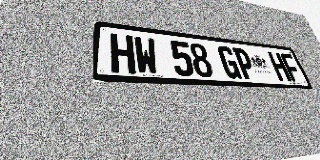5: (170, 40, 196, 77)
8: (188, 42, 214, 78)
F: (279, 53, 304, 82)
G: (217, 46, 242, 79)
H: (110, 33, 136, 74), (267, 52, 292, 81)
P: (232, 47, 258, 80)
W: (133, 36, 159, 75)
